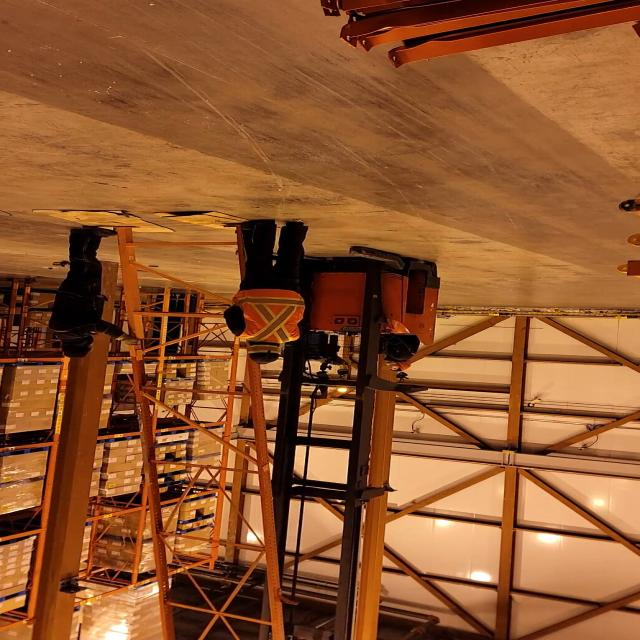forklift: (228, 243, 444, 503)
human: (43, 225, 143, 360), (221, 218, 311, 366), (358, 332, 430, 374)
objectofinterest: (100, 220, 293, 638), (25, 208, 178, 240), (152, 208, 278, 234)
